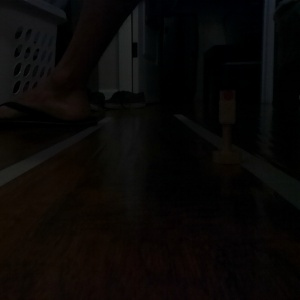traffic light red: (210, 82, 242, 167)
